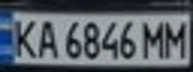4: (100, 18, 121, 60)
6: (60, 18, 84, 60), (118, 18, 142, 60)
8: (81, 19, 103, 61)
A: (33, 17, 60, 60)
K: (6, 16, 42, 58)
M: (160, 17, 193, 59), (139, 17, 169, 60)
